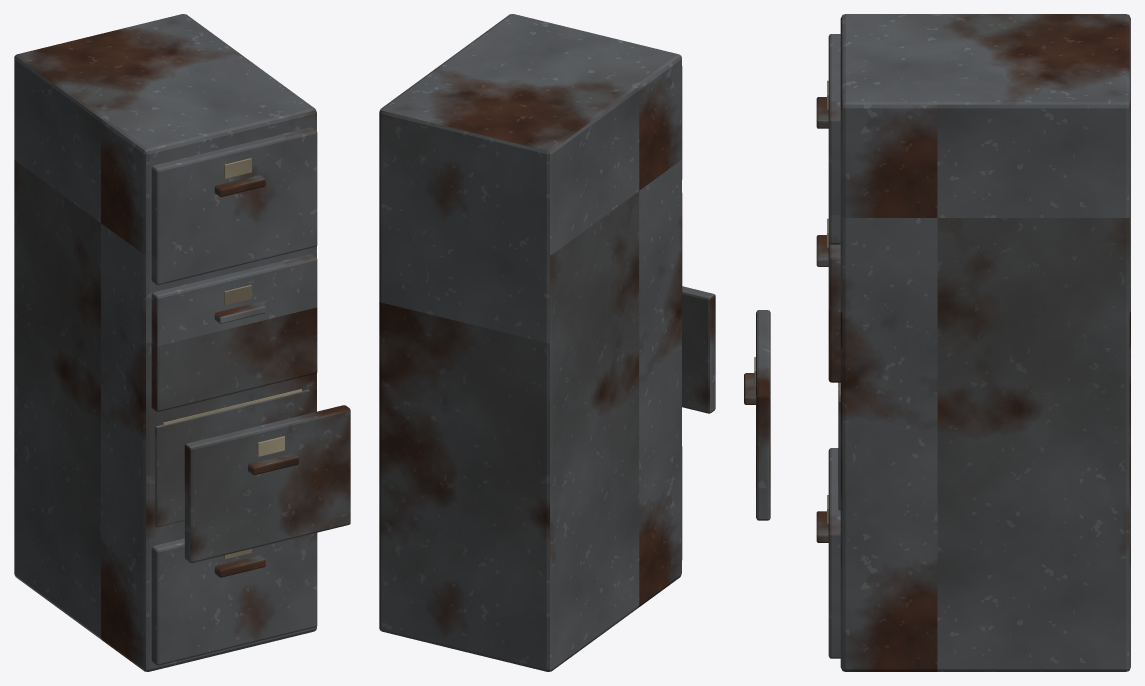
File: F16_filing_cabinet.glb
The picture shows the model from 3 angles, left to right: view 1: azimuth 30°, elevation 25°; view 2: azimuth 150°, elevation 25°; view 3: azimuth 270°, elevation 25°; orthographic projection. The views are drawn at different scales.
Visible parts, largest first — view 1: F16_filing_cabinet; view 2: F16_filing_cabinet; view 3: F16_filing_cabinet.
Part boxes in pixels (x1=…): F16_filing_cabinet: x1=14, y1=14, x2=350, y2=671; F16_filing_cabinet: x1=379, y1=14, x2=715, y2=671; F16_filing_cabinet: x1=744, y1=14, x2=1130, y2=671.
Size of the model in its own units: 0.45 by 1.3 by 0.8.
Materials: 3 (3 with a texture image).
